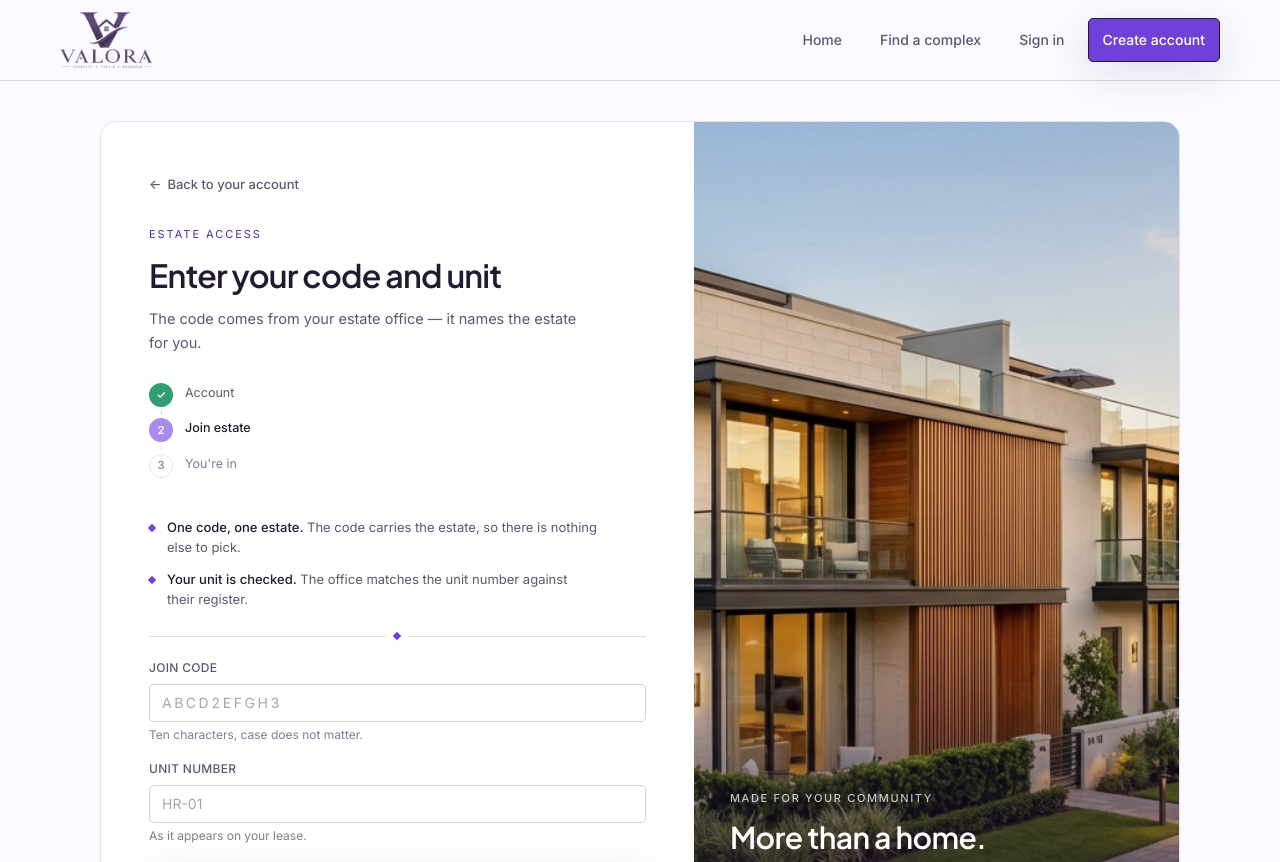
Test: Join › explains the rate limit in the estate office’s own terms
In the field labelled "Join code": (397, 703) left=149, top=684, right=646, bottom=722, type "WRONGCODE1"
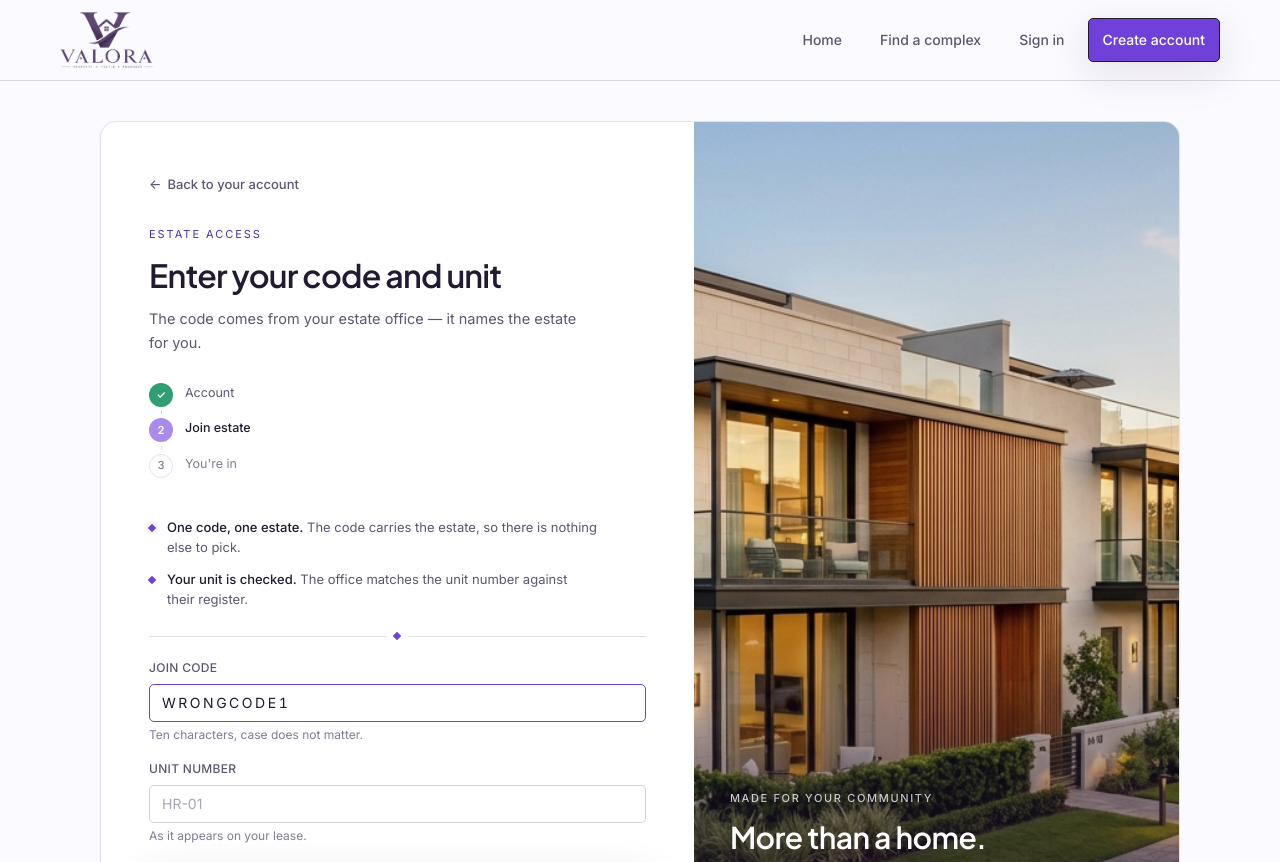
In the field labelled "Unit number": (397, 804) left=149, top=785, right=646, bottom=823, type "A-101"
(page scrolled)
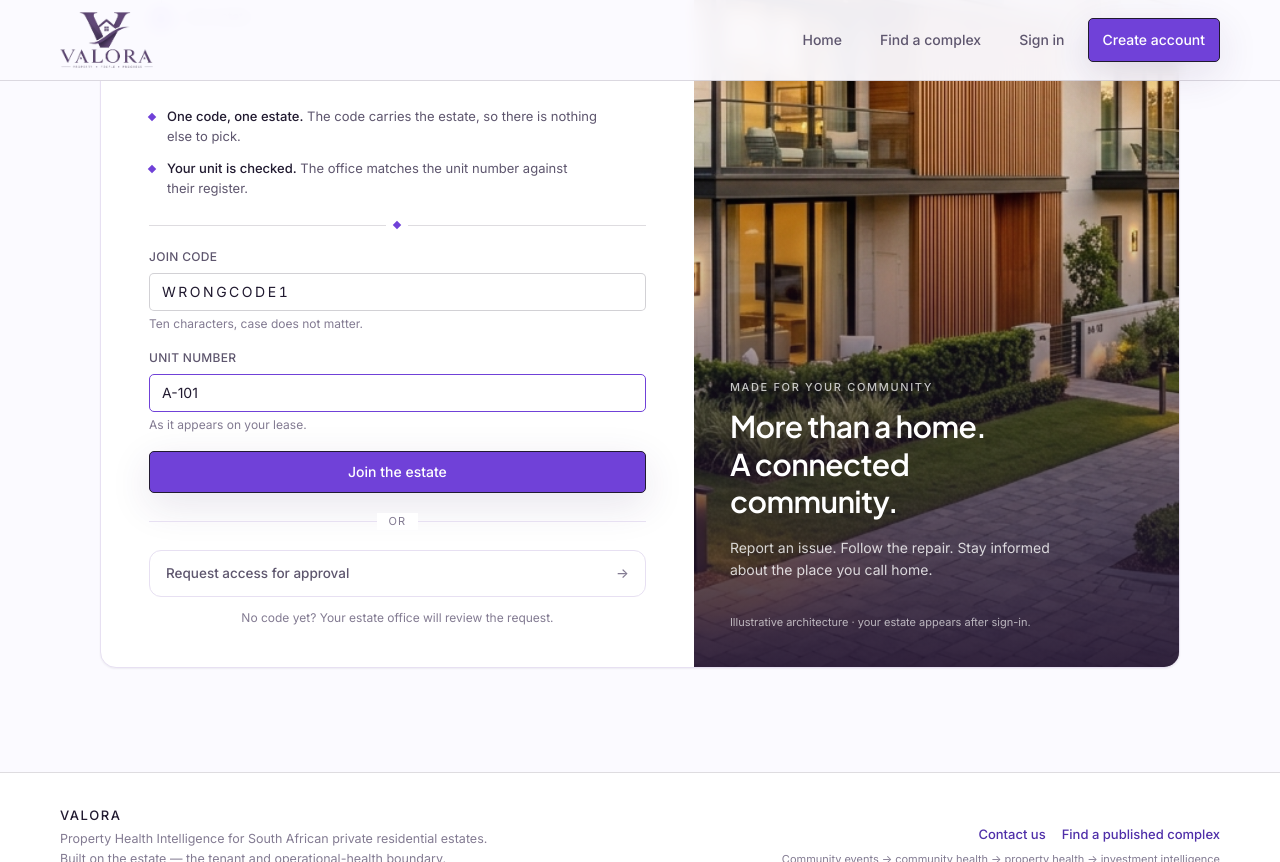
Click the button "Join the estate": (397, 472) left=149, top=450, right=646, bottom=492
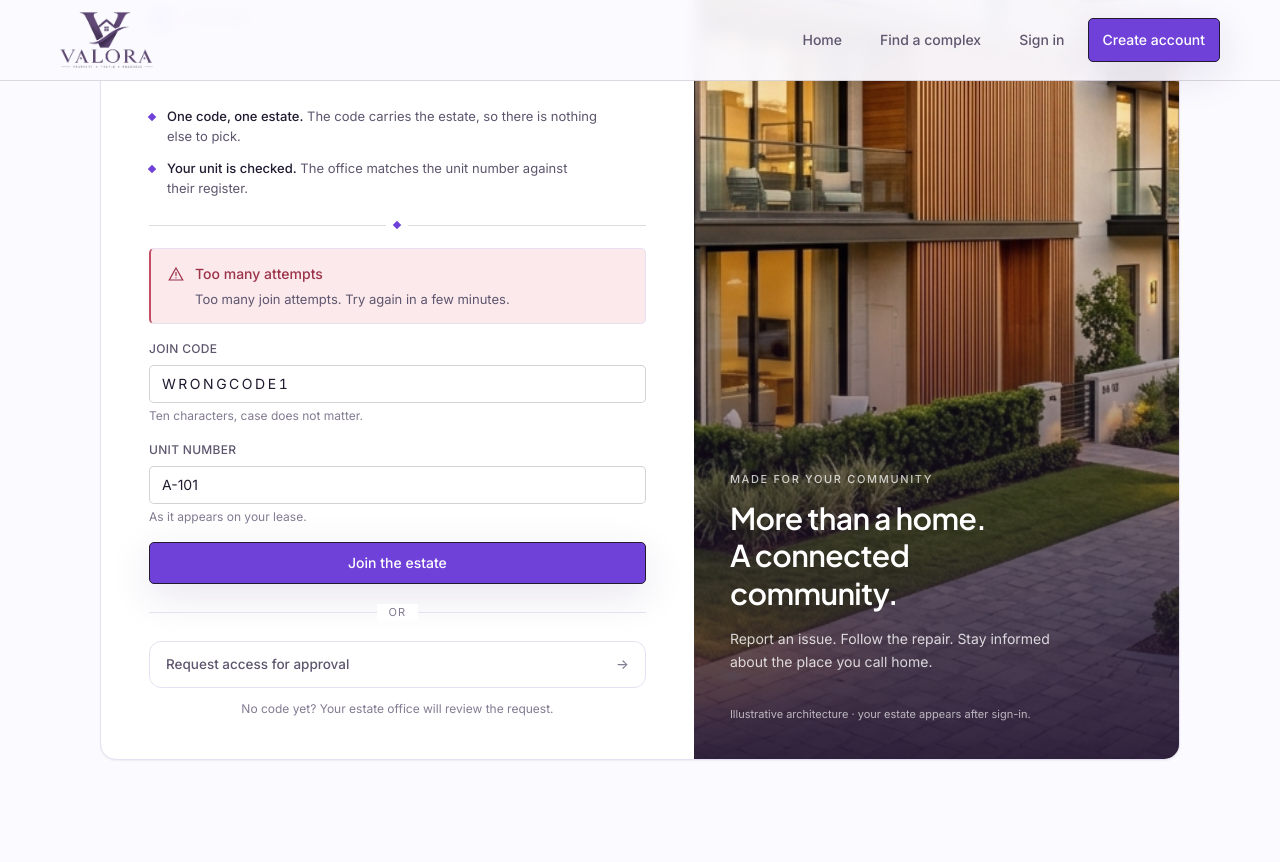
Expected: the text "Too many attempts" is shown, left=195, top=265, right=323, bottom=282
Expected: the text "Too many join attempts. Try again in a few minutes." is shown, left=195, top=289, right=510, bottom=309
